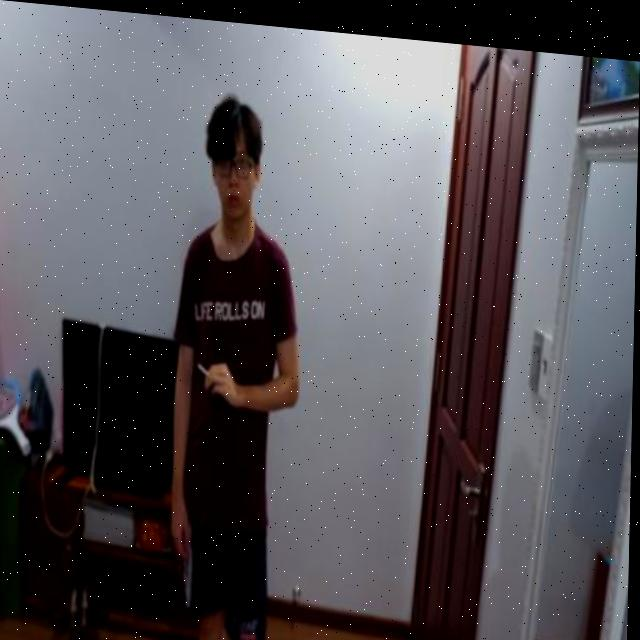cigarette: (198, 356, 214, 376)
